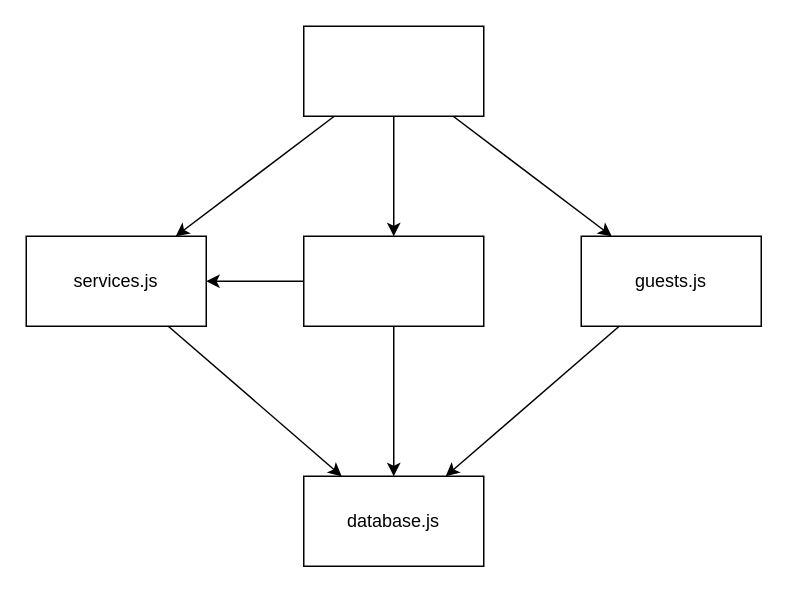
This 788x593 diagram has some shape labels left out. The shapes that lost their labels are listed below. From the top down, each one's centre as x and y in pixels, then its label:
At [393,70]: "main.js".
At [393,280]: "areas.js".
